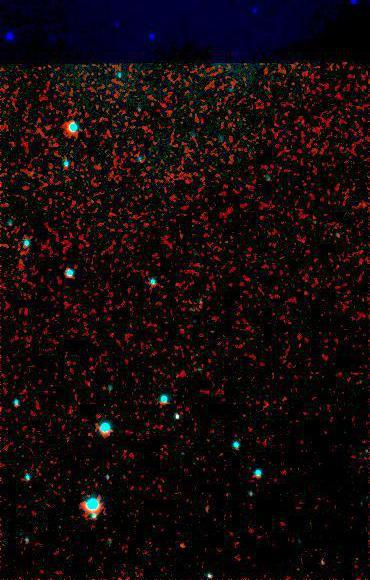star: (165, 532, 195, 562)
